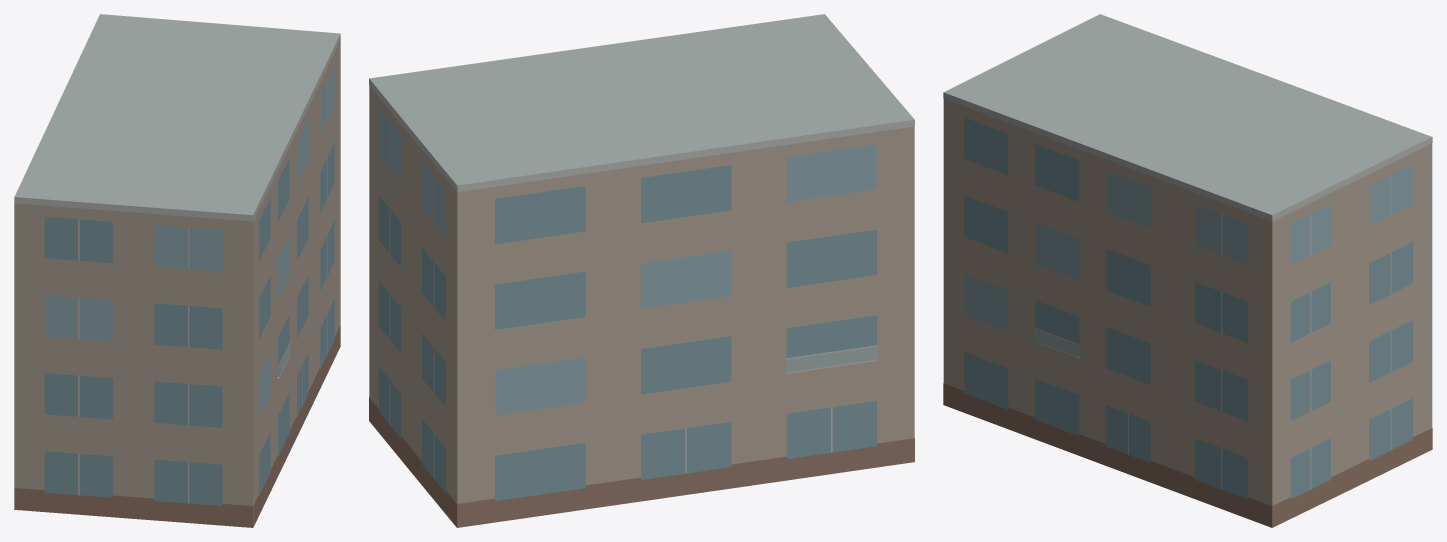
The model's file is survey-upis-32568500.glb.
3 views of the same model, side by side, from view 1: azimuth 30°, elevation 25°; view 2: azimuth 150°, elevation 25°; view 3: azimuth 270°, elevation 25° (orthographic). The views are drawn at different scales.
Visible parts, largest first — view 1: survey-upis-32568500.tmp; view 2: survey-upis-32568500.tmp; view 3: survey-upis-32568500.tmp.
Boxes of the visible parts, x1,y1,x2,y2 form: survey-upis-32568500.tmp: (14,14,340,527); survey-upis-32568500.tmp: (369,14,914,527); survey-upis-32568500.tmp: (943,14,1432,527).
Bounding box in the file's own units: 16.98 × 12.3 × 17.44.
